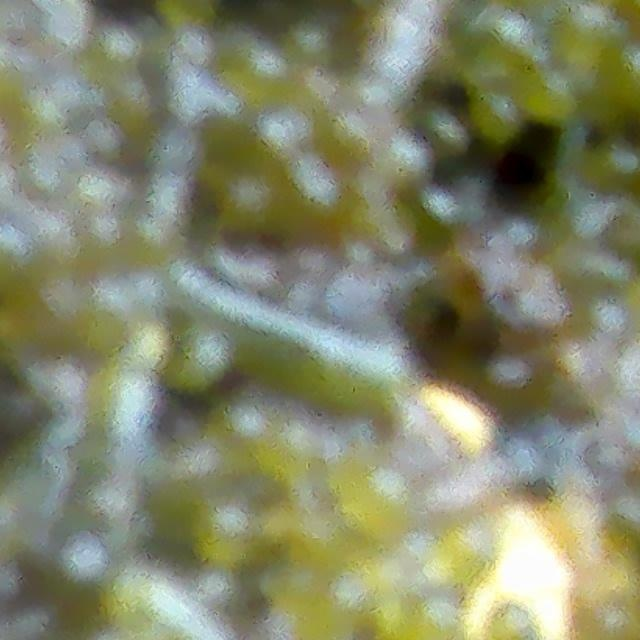SeaGrape: (378, 133, 427, 184), (95, 24, 141, 69)
